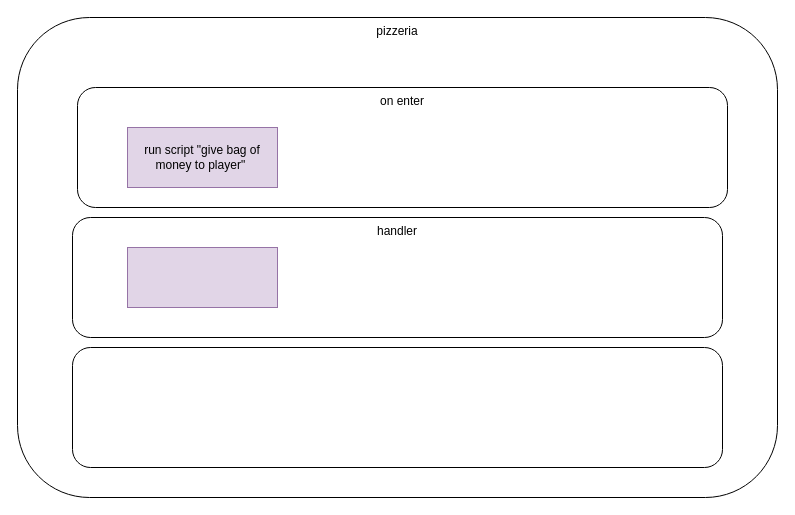
Image size: 795x515. Some labels were removed from this diagram. Here are the shapes that lost their labels. From the top down, the centre of each, then its label:
At (x=202, y=277): "process player move player.time -= 1 unit".
At (x=397, y=407): "on exit".
